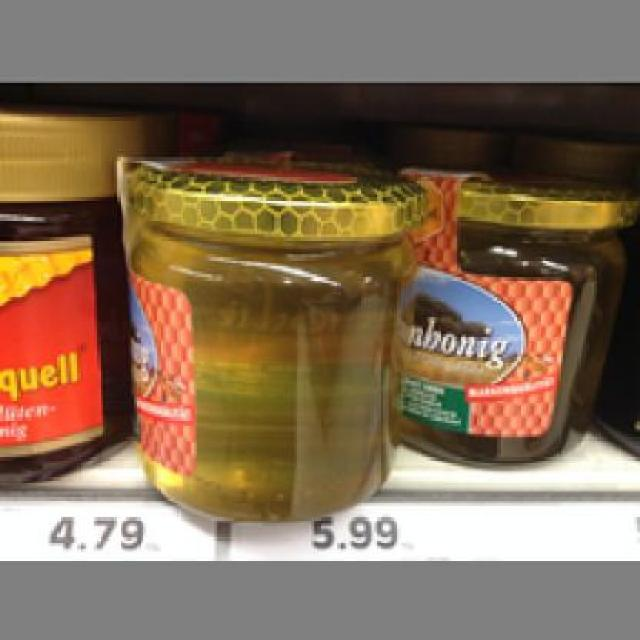Honey: (120, 148, 406, 552), (402, 166, 628, 483)
